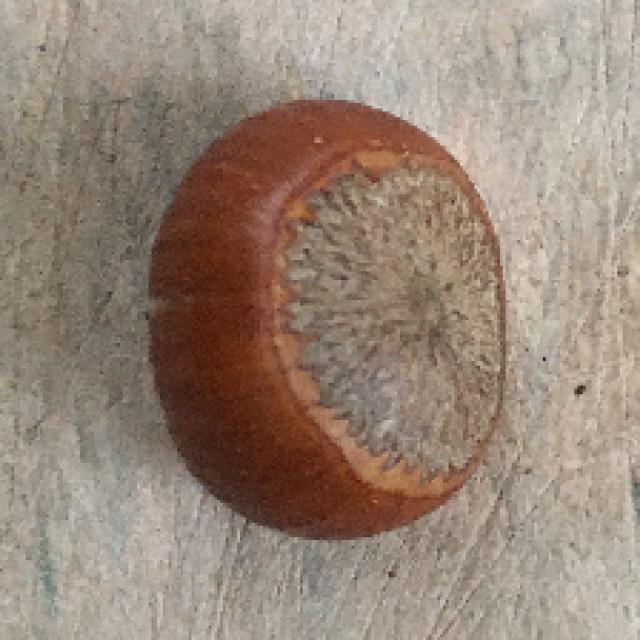damagedHazelnut: (149, 93, 512, 549)
